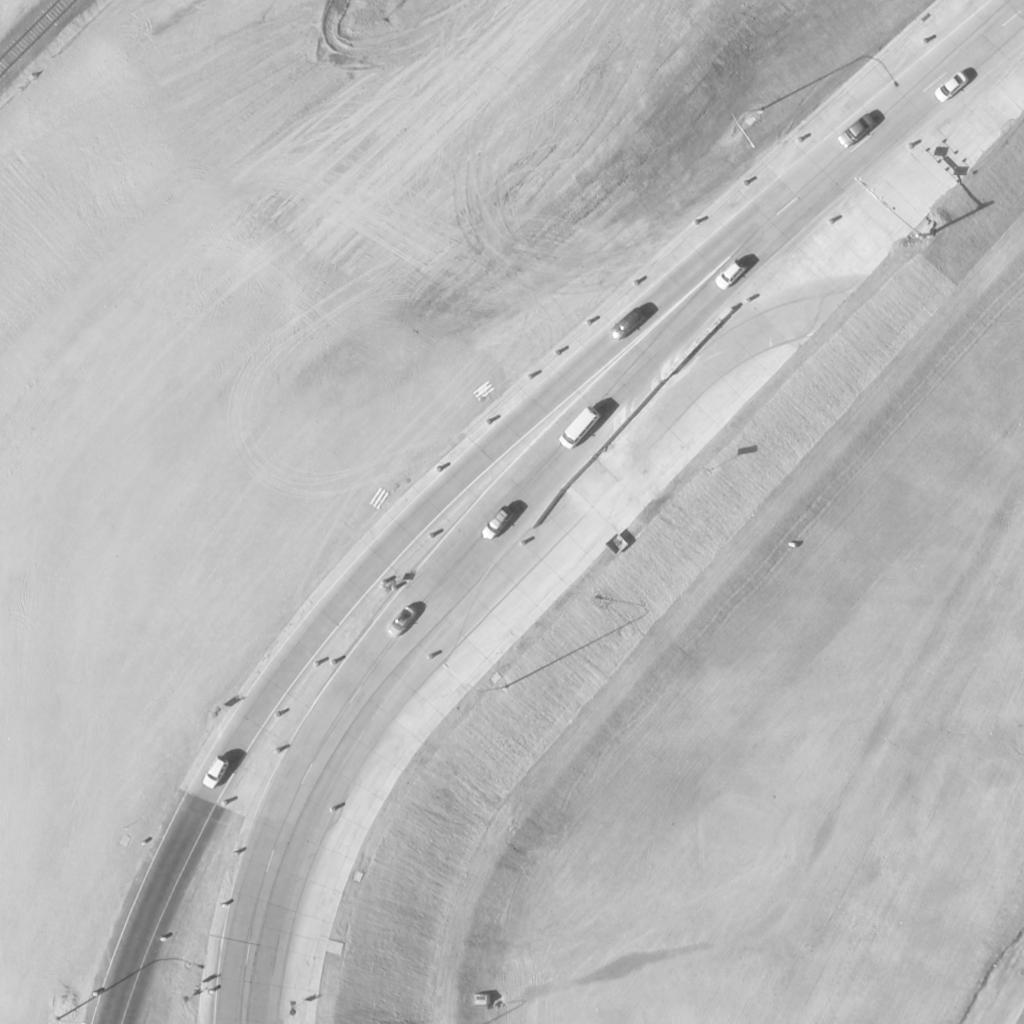vehicle: (563, 405, 599, 451), (836, 117, 880, 147), (479, 508, 515, 544), (198, 760, 232, 792), (614, 310, 646, 344), (388, 605, 416, 639), (715, 262, 749, 290), (939, 73, 967, 103)
